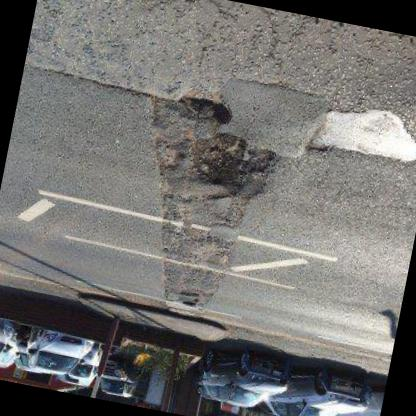pothole: (177, 128, 282, 209), (174, 88, 236, 129), (177, 286, 202, 310)
